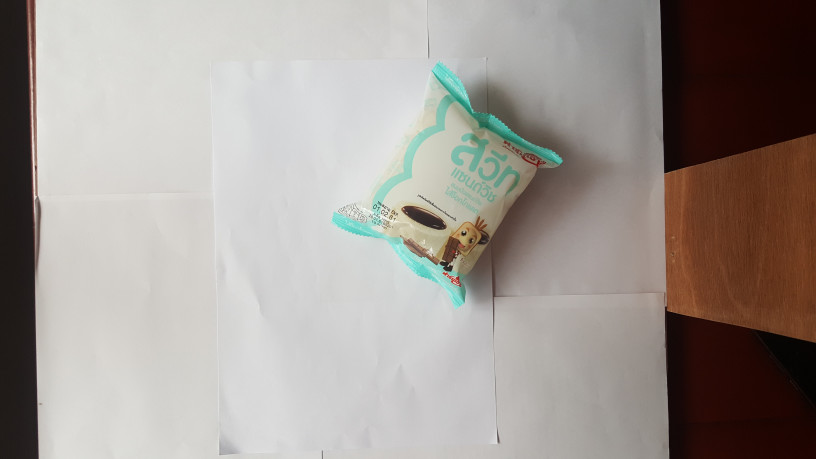farmhouse-sweetsandwich-chocolate: (326, 58, 565, 310)
